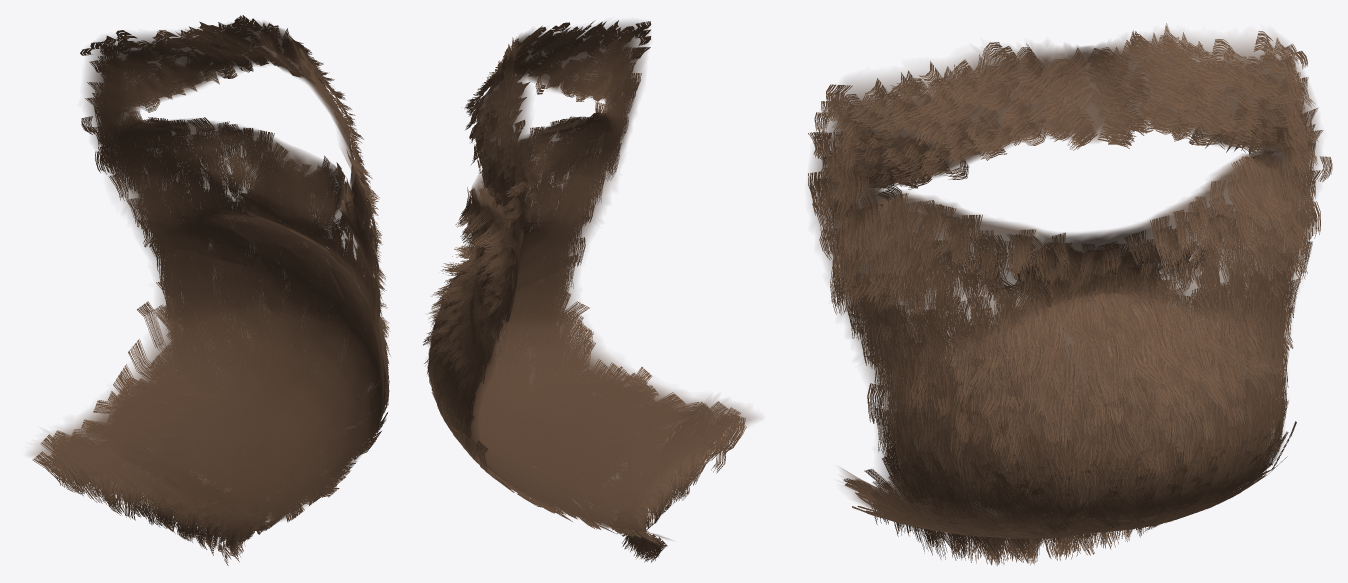
Rendered from beard-m4-goatee.glb.
3 views of the same model, side by side, from view 1: azimuth 30°, elevation 25°; view 2: azimuth 150°, elevation 25°; view 3: azimuth 270°, elevation 25° (orthographic). The views are drawn at different scales.
Parts seen in each view (by area): view 1: Beard_m4_goatee_root, Beard_m4_goatee_cards; view 2: Beard_m4_goatee_root, Beard_m4_goatee_cards; view 3: Beard_m4_goatee_cards, Beard_m4_goatee_root.
Part boxes in pixels (x1,y1,x2,y2): Beard_m4_goatee_root: [29, 21, 384, 543]; Beard_m4_goatee_cards: [32, 15, 390, 565]; Beard_m4_goatee_root: [437, 21, 759, 539]; Beard_m4_goatee_cards: [423, 20, 746, 562]; Beard_m4_goatee_cards: [808, 23, 1332, 565]; Beard_m4_goatee_root: [811, 31, 1319, 530].
Size of the model in its own units: 0.0663 by 0.1031 by 0.0831.
2 materials, 1 textured.
